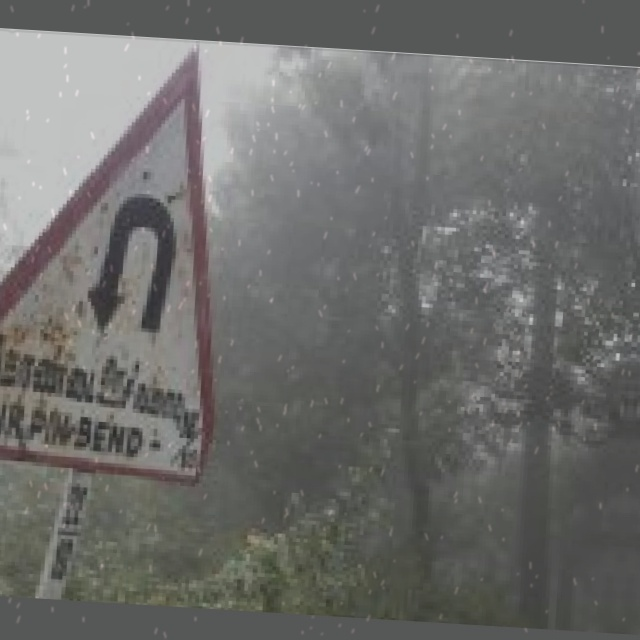Left_Hair_Pin_Bend: (8, 101, 239, 369)
